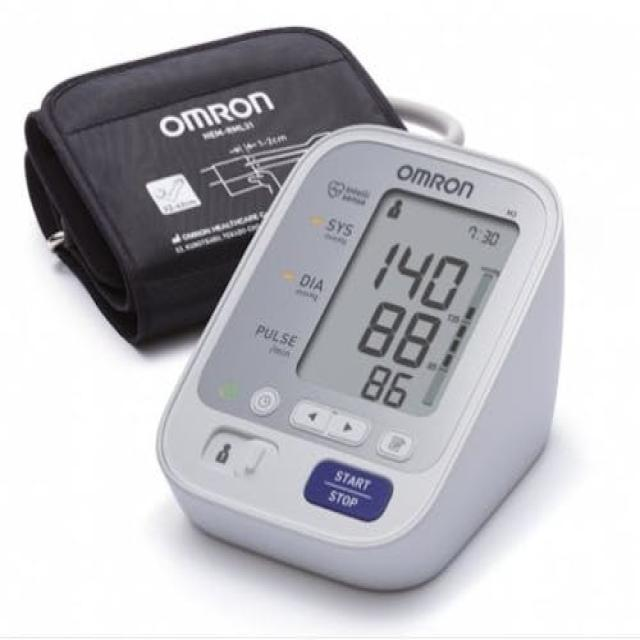dia: (344, 279, 453, 385)
pul: (343, 354, 421, 415)
ssd: (295, 166, 520, 434)
sys: (357, 217, 475, 319)
